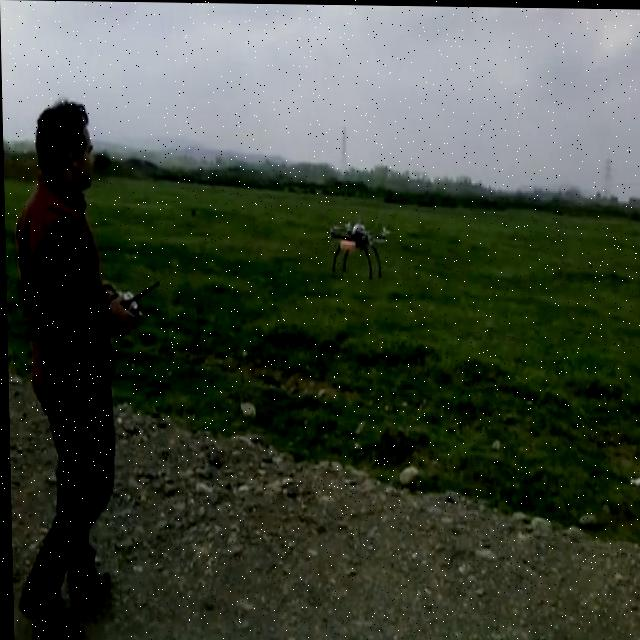drone: (320, 218, 393, 279)
